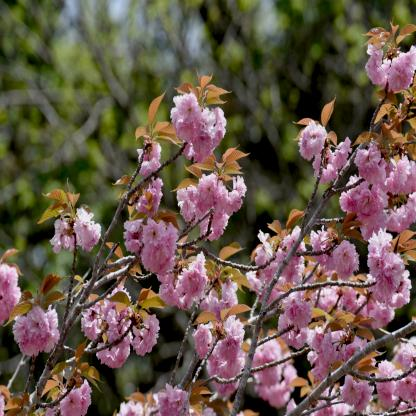YaeSakura: (0, 25, 416, 416)
